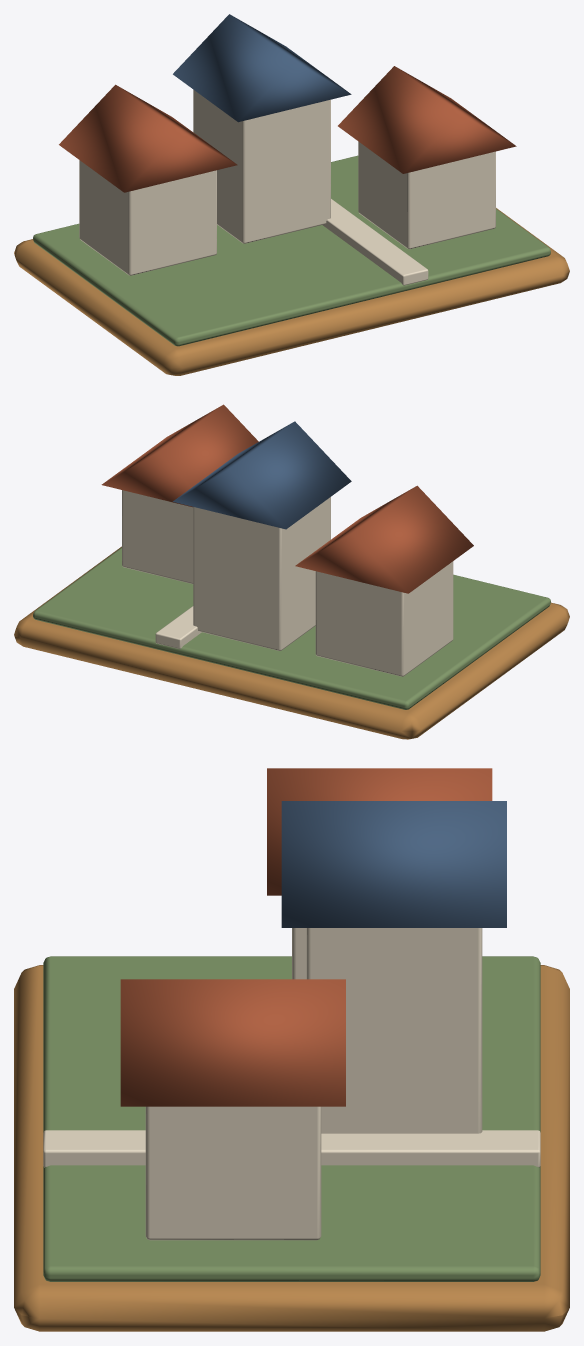
Rendered from PR_TownModel.glb.
3 views of the same model, one above another, from view 1: azimuth 30°, elevation 25°; view 2: azimuth 150°, elevation 25°; view 3: azimuth 270°, elevation 25° (orthographic). The views are drawn at different scales.
Parts seen in each view (by area): view 1: PR_TownModel_LOD0; view 2: PR_TownModel_LOD0; view 3: PR_TownModel_LOD0.
Boxes of the visible parts, bbox=[...] form: PR_TownModel_LOD0: bbox=[14, 14, 569, 375]; PR_TownModel_LOD0: bbox=[14, 404, 569, 739]; PR_TownModel_LOD0: bbox=[14, 768, 569, 1331].
Size of the model in its own units: 0.55 by 0.2795 by 0.38.
Materials: 1 (1 with a texture image).
